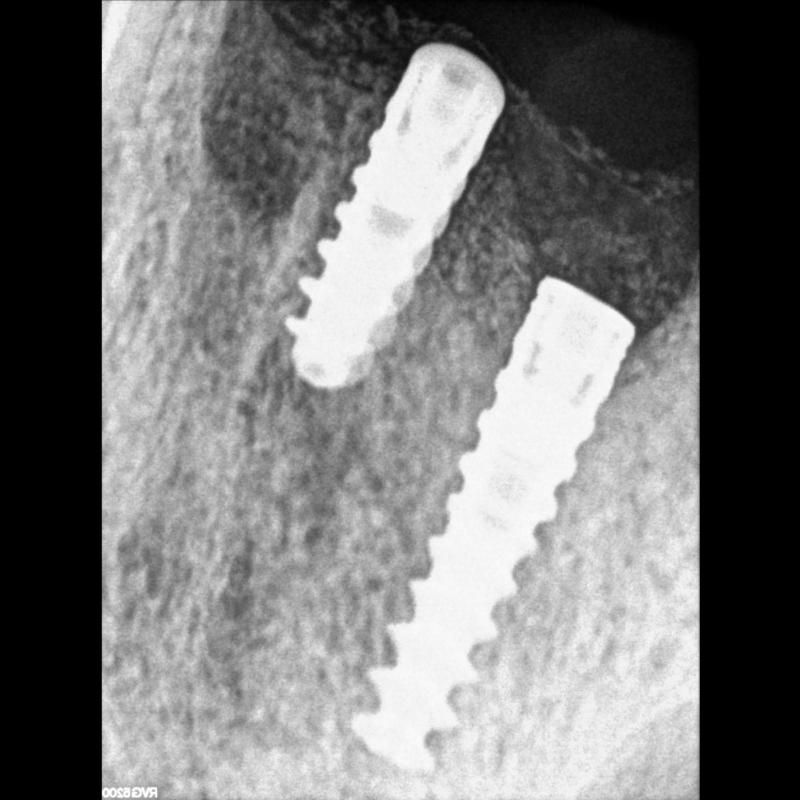ADIN: (347, 280, 647, 776), (278, 38, 494, 402)
